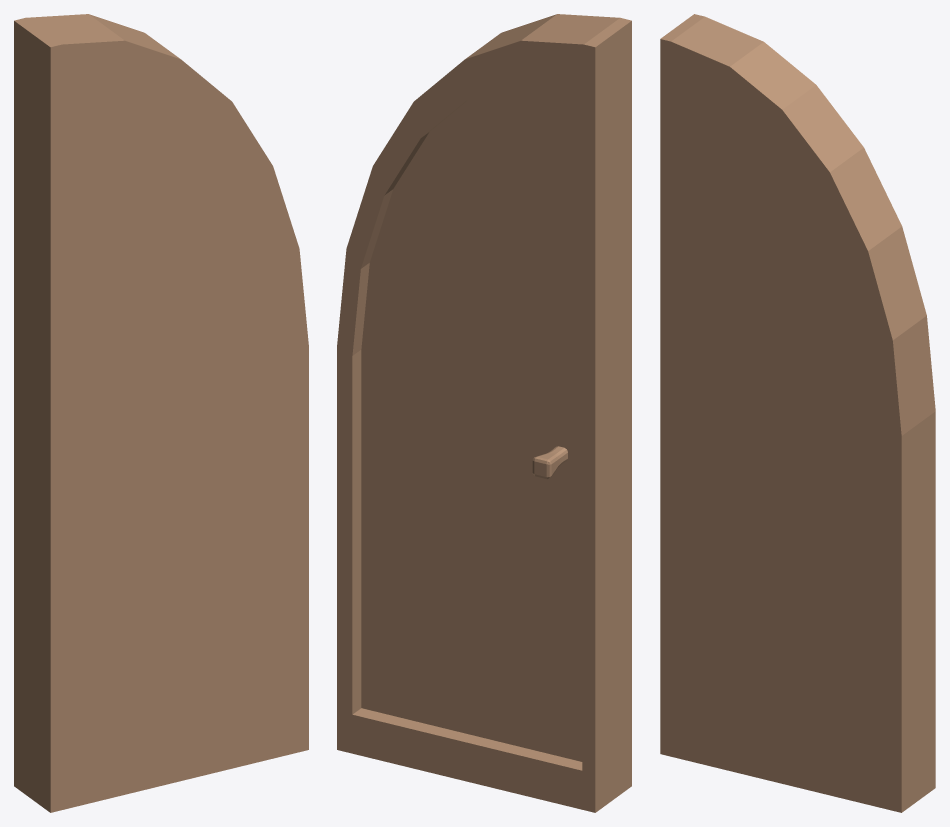
The model's file is RightArchDoor.obj.
3 views of the same model, side by side, from view 1: azimuth 30°, elevation 25°; view 2: azimuth 150°, elevation 25°; view 3: azimuth 330°, elevation 25° (orthographic). The views are drawn at different scales.
Parts seen in each view (by area): view 1: 立方体.003; view 2: 立方体.003; view 3: 立方体.003.
Part boxes in pixels (<box>): 立方体.003: <box>14,14,308,812</box>; 立方体.003: <box>337,14,631,812</box>; 立方体.003: <box>660,14,935,812</box>.
Bounding box in the file's own units: 0.6021 × 1.7 × 0.196.
1 material, 1 textured.
